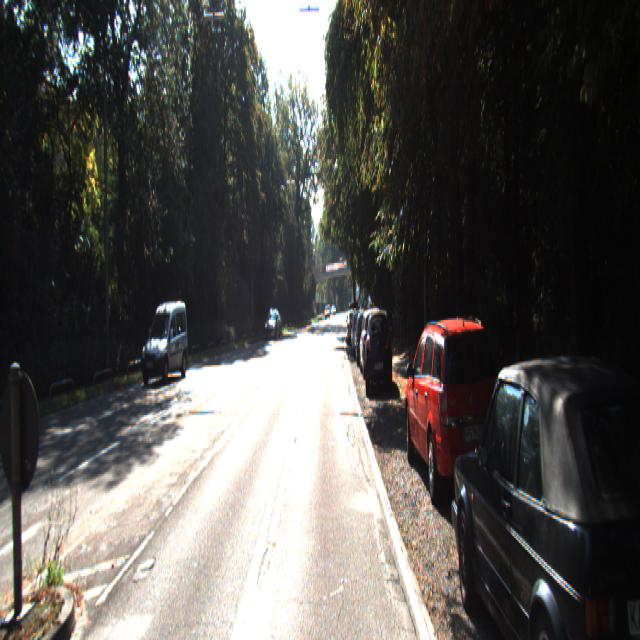Car: (448, 336, 640, 638), (403, 311, 510, 518), (138, 293, 189, 383), (365, 304, 393, 392), (361, 310, 387, 380), (356, 310, 376, 368), (264, 307, 281, 340), (349, 310, 361, 347)
